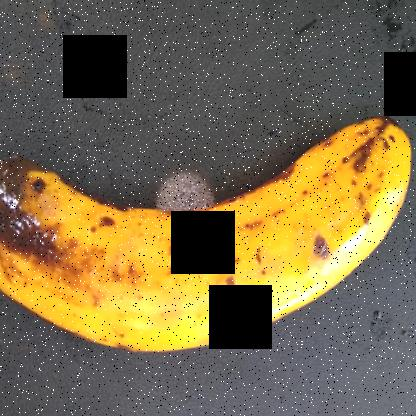overripe: (91, 93, 415, 376)
rotten: (0, 146, 122, 353)
